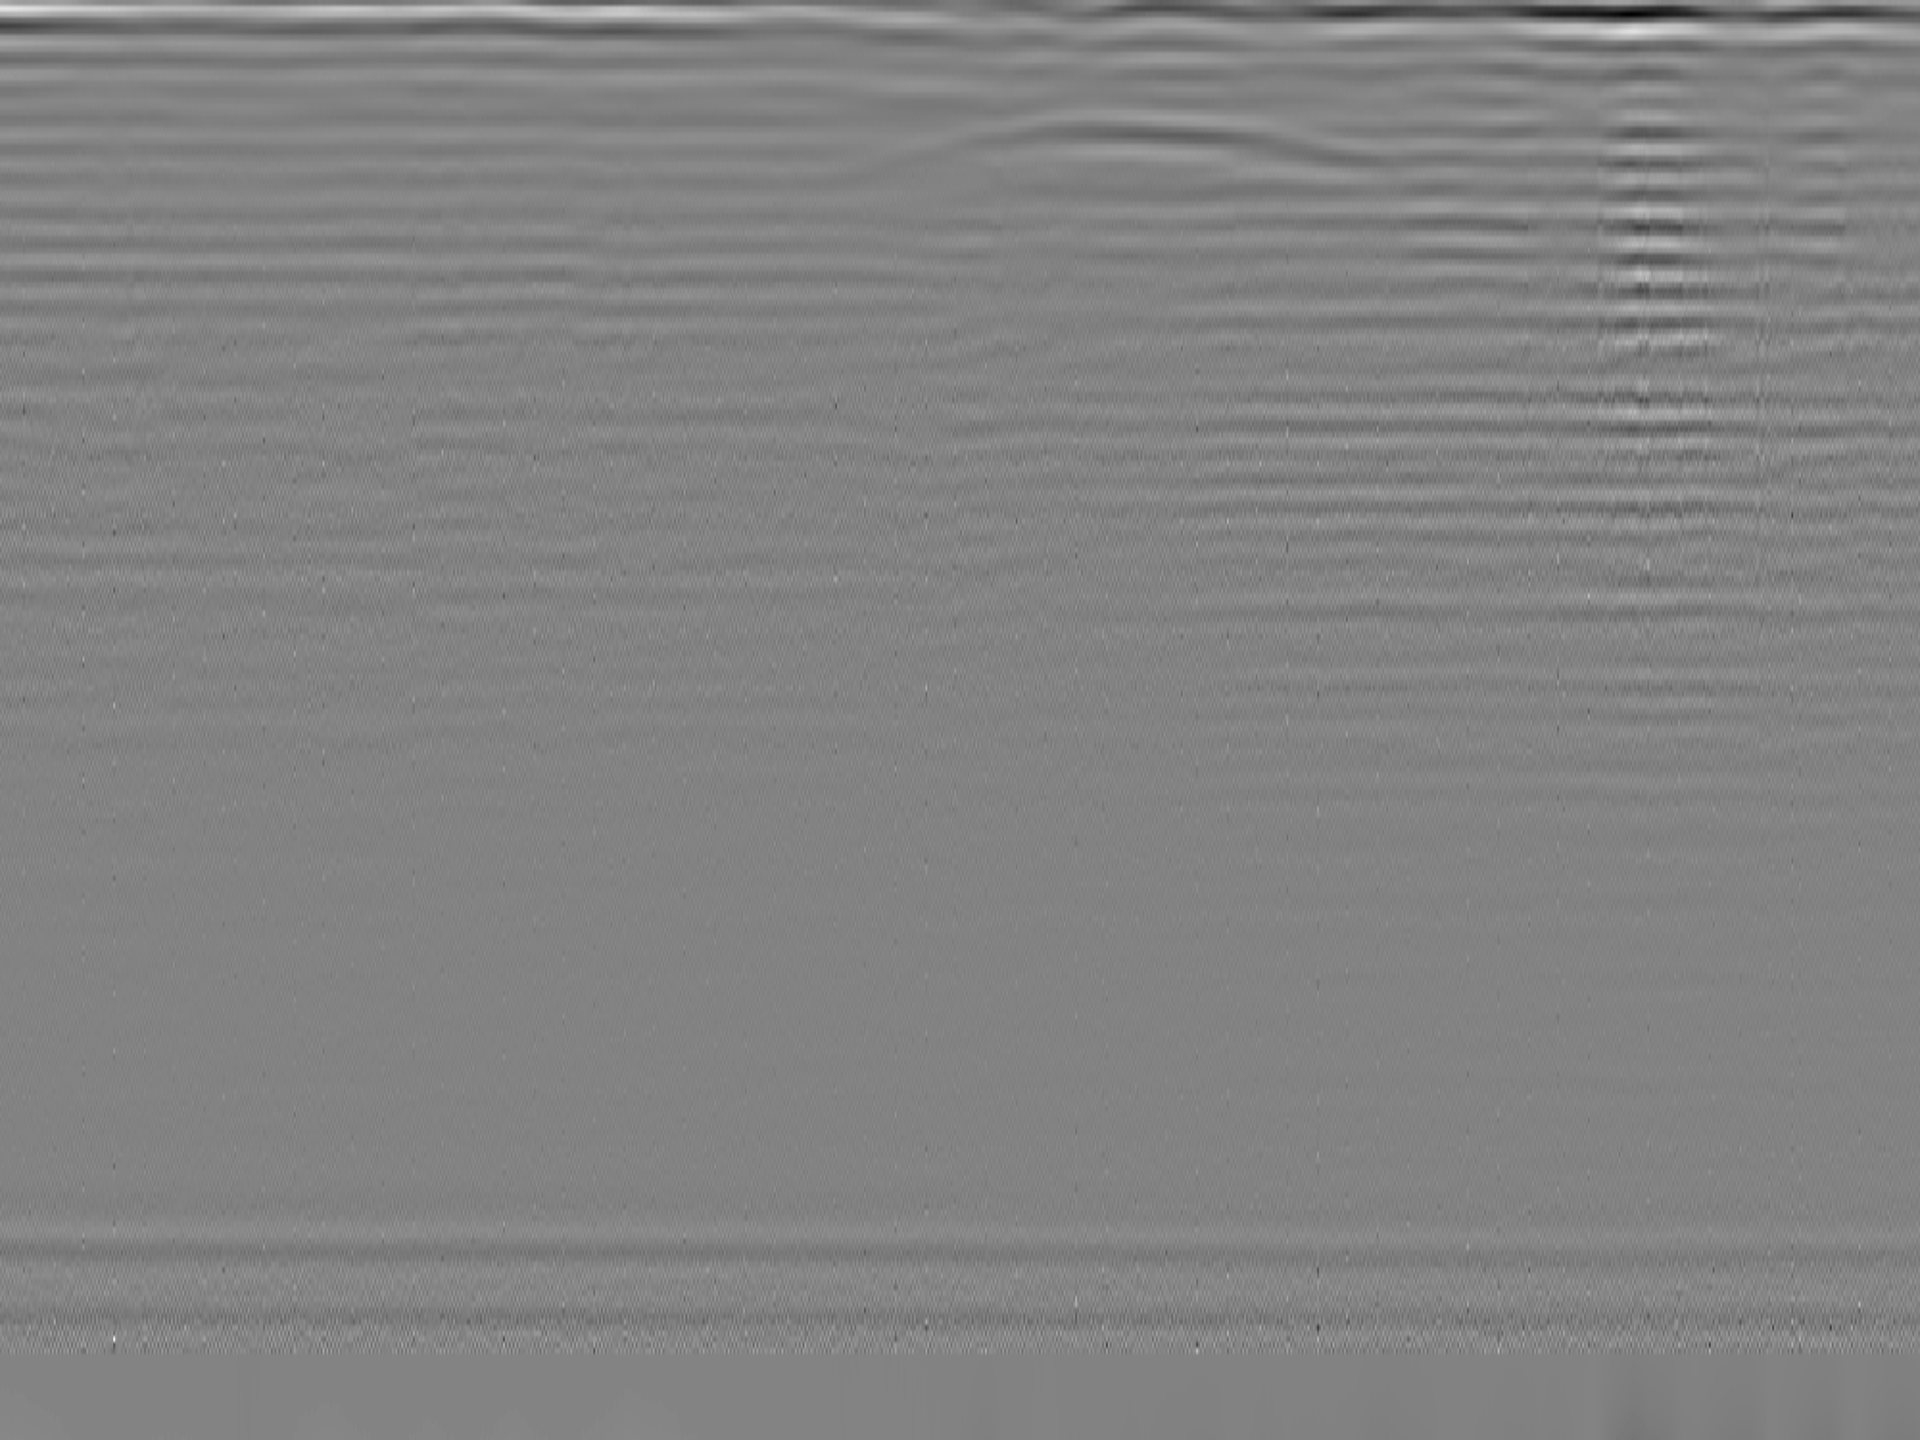Tunnel: (887, 104, 1386, 172)
